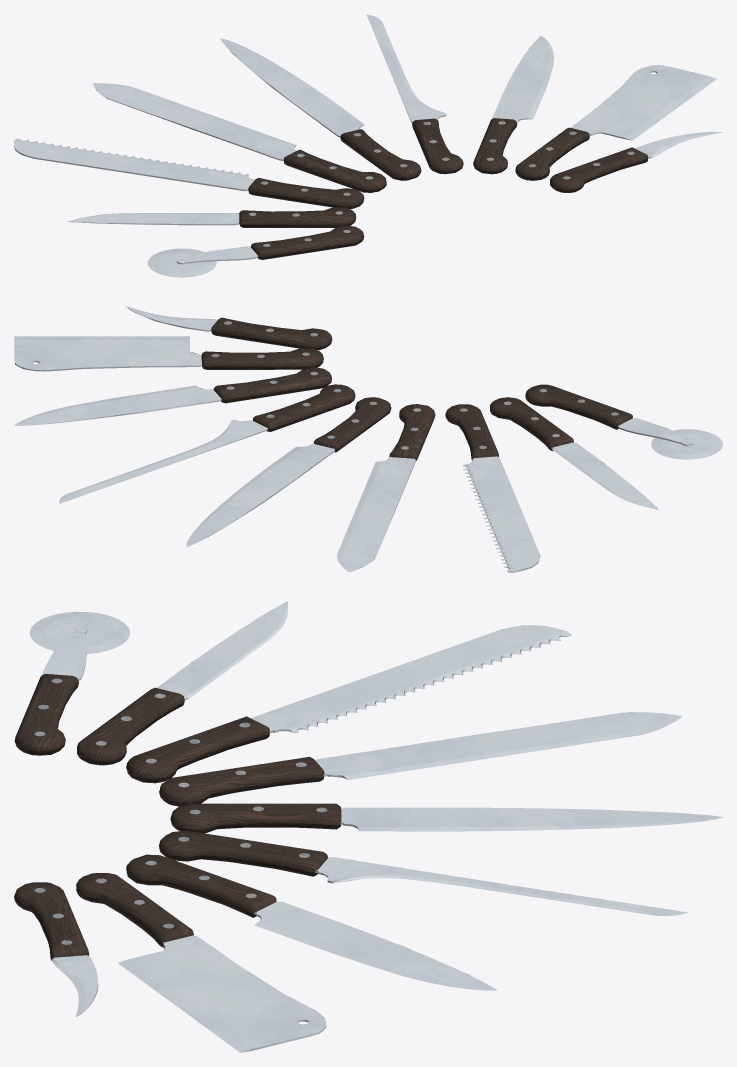
The model's file is x_carnicero_knife_collection.glb.
3 views of the same model, one above another, from view 1: azimuth 30°, elevation 25°; view 2: azimuth 150°, elevation 25°; view 3: azimuth 270°, elevation 25° (orthographic). The views are drawn at different scales.
Visible parts, largest first — view 1: knife 1_Material.001_0; view 2: knife 1_Material.001_0; view 3: knife 1_Material.001_0.
Part boxes in pixels (left/top/right/bottom): knife 1_Material.001_0: left=14, top=14, right=722, bottom=277; knife 1_Material.001_0: left=14, top=306, right=722, bottom=572; knife 1_Material.001_0: left=14, top=601, right=722, bottom=1052.
Size of the model in its own units: 0.6001 by 0.00871 by 0.3981.
3 materials, 3 textured.
